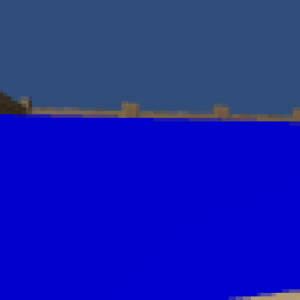platform: (1, 116, 298, 293)
